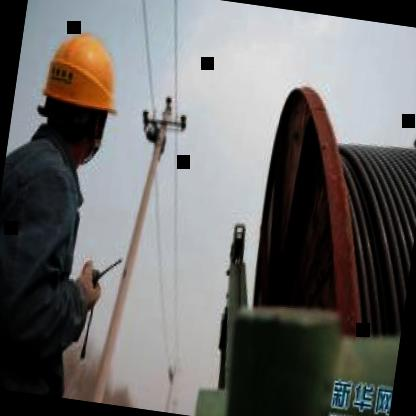helmet: (26, 12, 131, 169)
